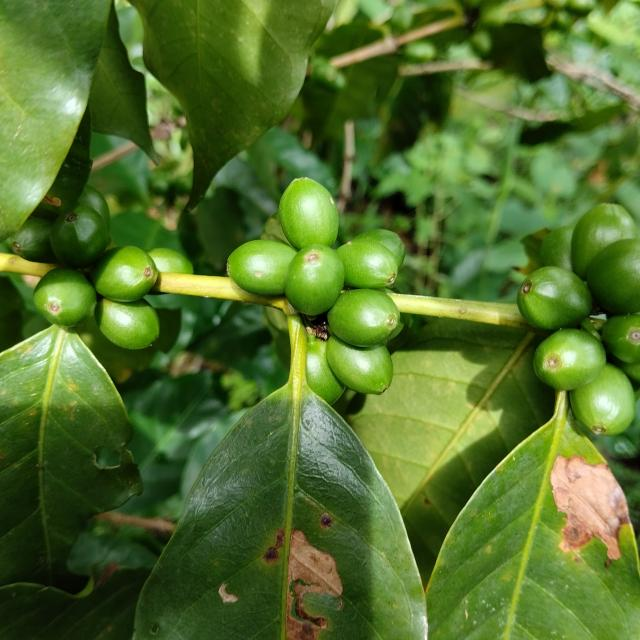green: (572, 203, 639, 279), (518, 266, 594, 331), (571, 364, 637, 436), (534, 329, 607, 391), (279, 177, 339, 250), (284, 244, 344, 315), (328, 289, 400, 347), (326, 335, 394, 395), (227, 239, 296, 296), (588, 239, 640, 314), (90, 246, 157, 302), (49, 205, 108, 268), (33, 268, 95, 327), (94, 298, 159, 350), (336, 240, 398, 289), (306, 335, 345, 405), (353, 229, 406, 267), (603, 314, 640, 364), (147, 248, 193, 274)
